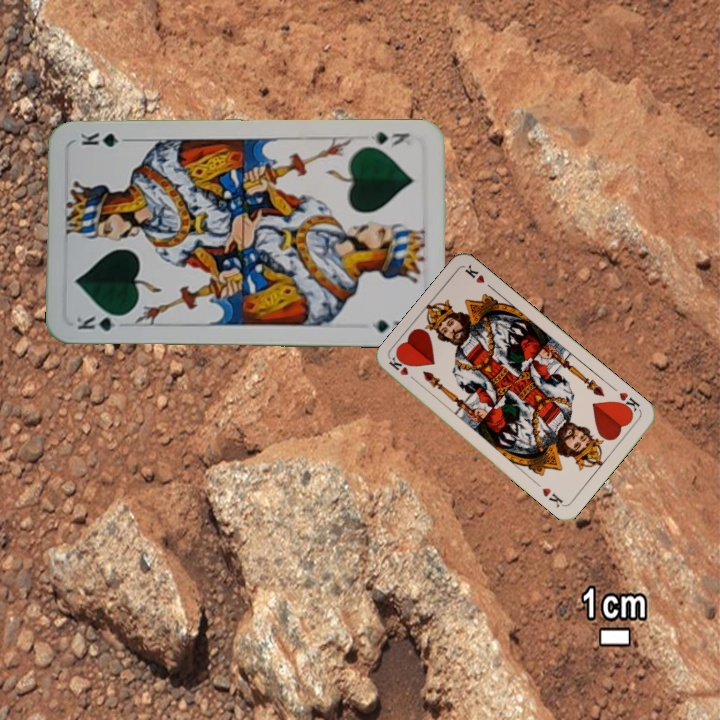GK: (72, 311, 129, 334), (366, 128, 413, 150)
HK: (385, 353, 421, 386), (613, 388, 642, 417)
